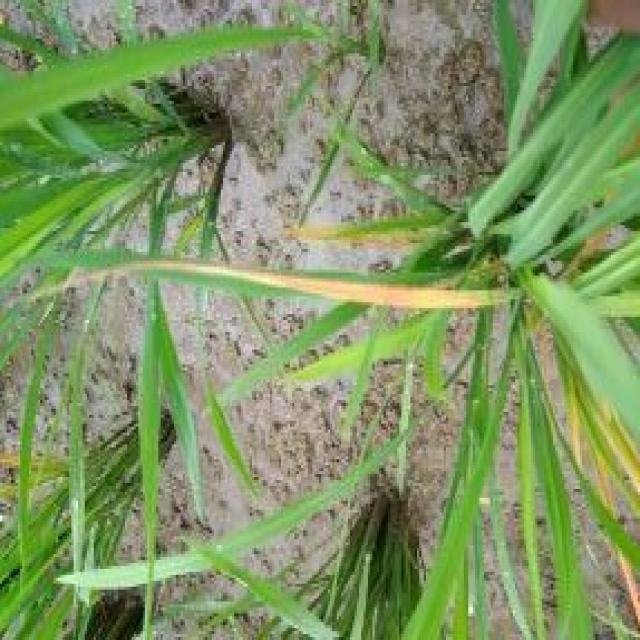Tungro: (14, 240, 507, 353)
